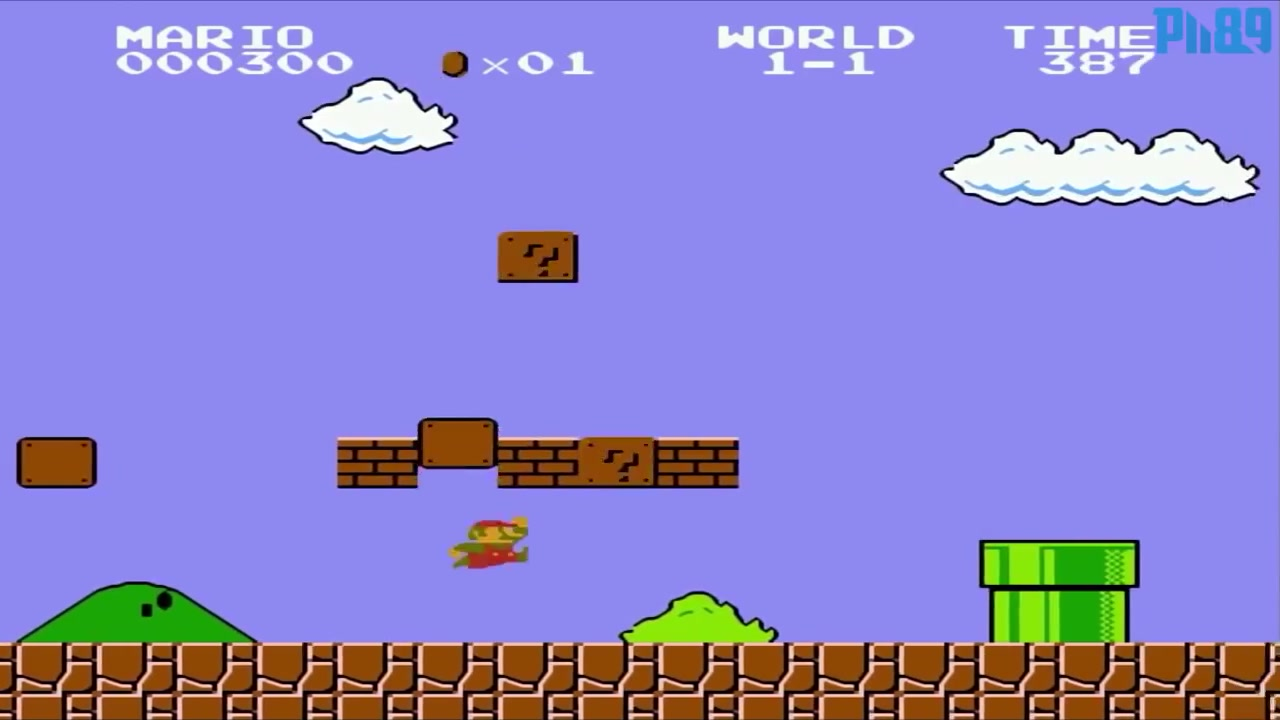mario: (436, 511, 539, 579)
